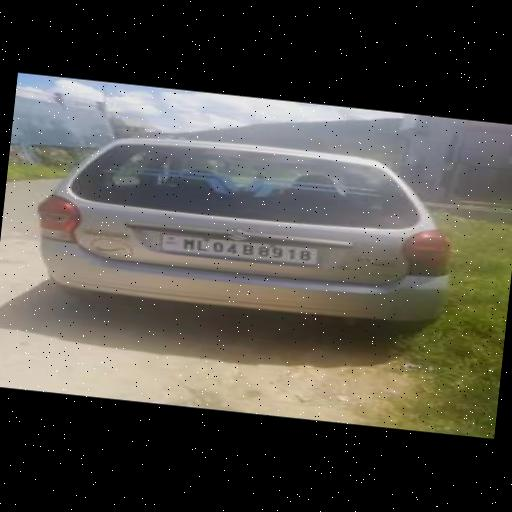license_plate`: (160, 230, 318, 264)
